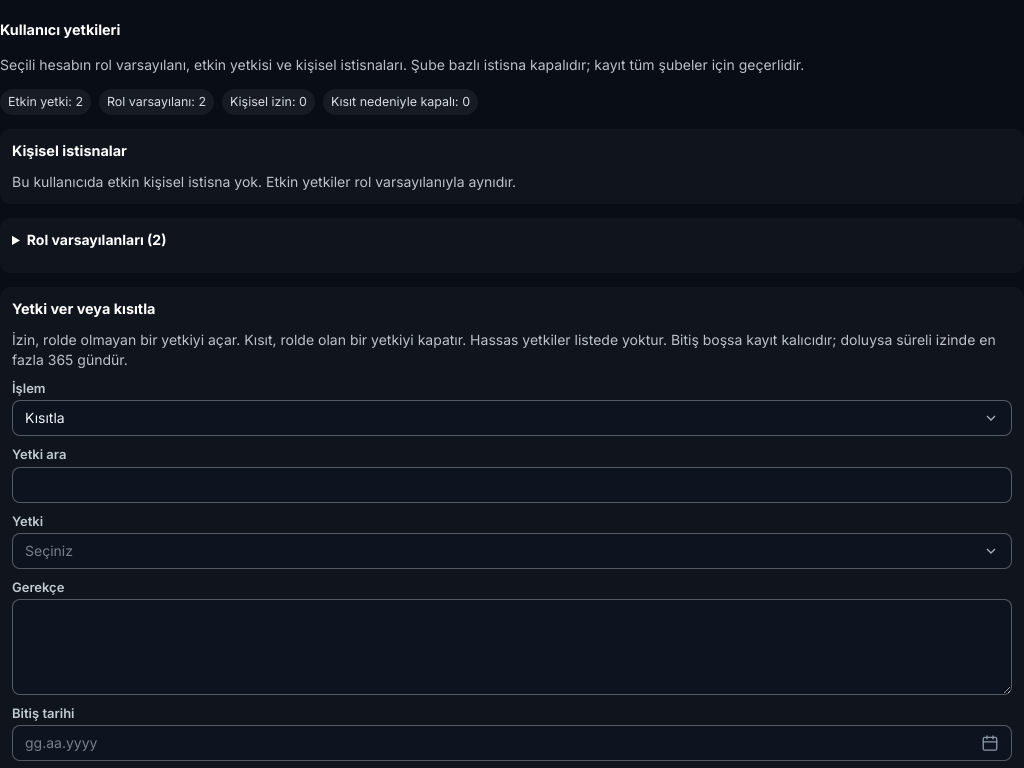
Test: Kullanıcı yetki paneli › şema hatasında başarı yazmaz
This screenshot has width=1024, height=768.
Select "Personel düzenleme (personeller.update)" in the dropdown named "yonetim-yetki-izin": [28, 521] box x1=12 y1=513 x2=43 y2=529
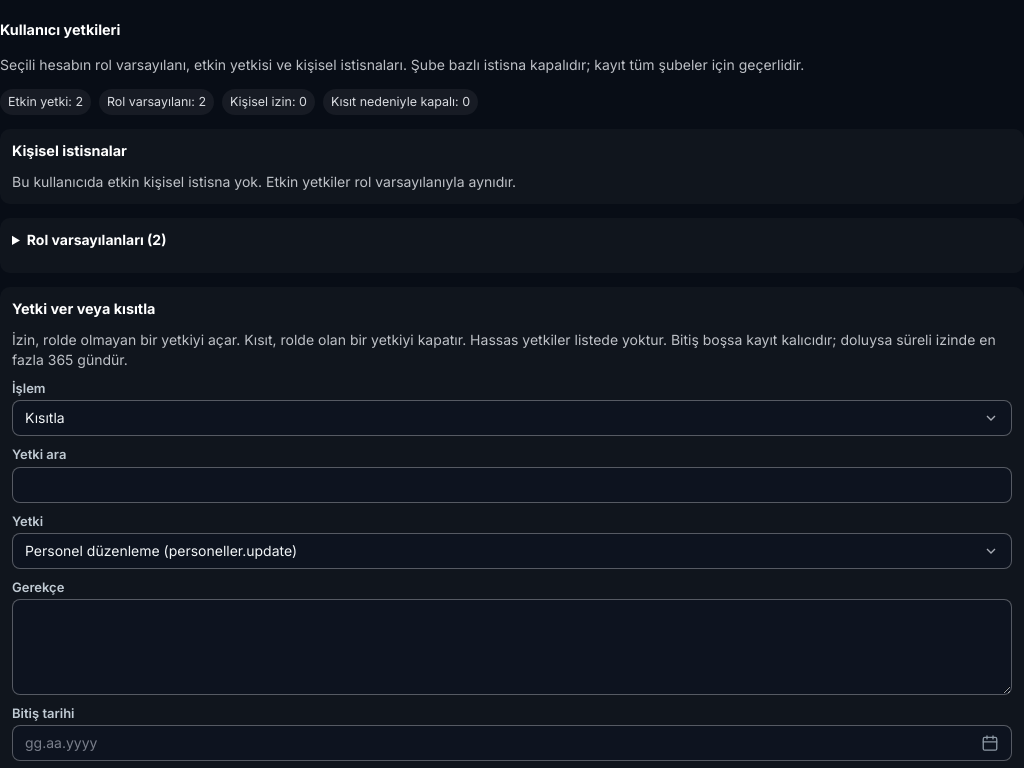
In the text box named "yonetim-yetki-gerekce": [512, 647] box x1=12 y1=599 x2=1012 y2=695, type "Düzenleme kapansın"
(page scrolled)
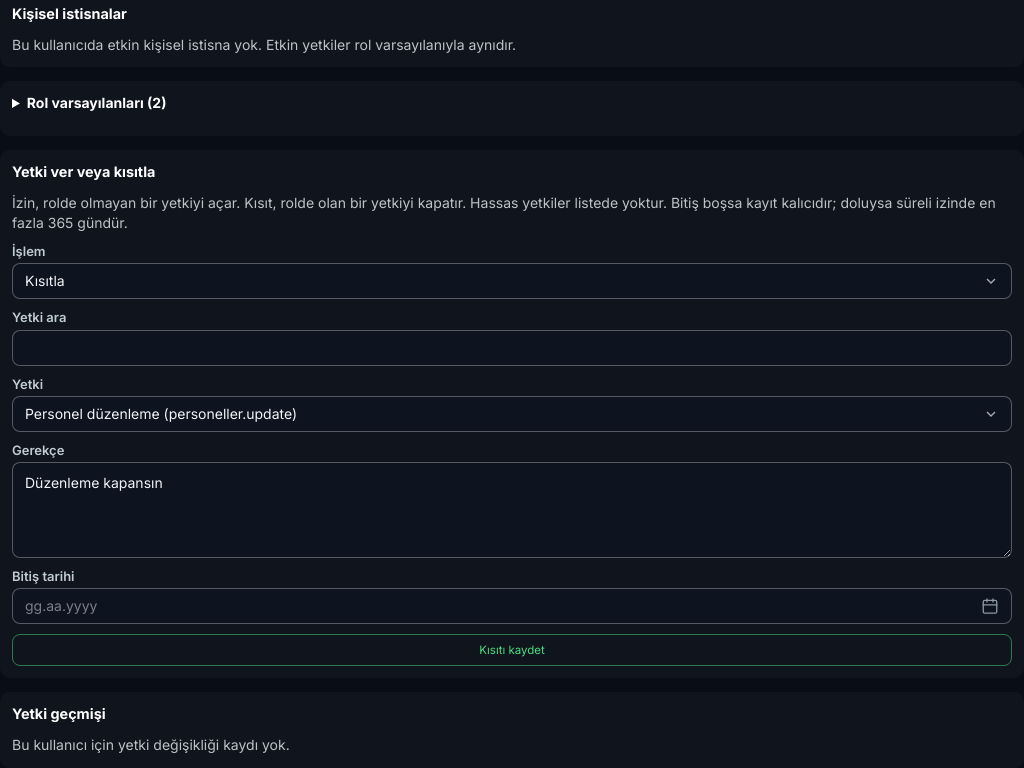
Click the button with test id "yonetim-yetki-kaydet": [512, 650] box x1=12 y1=634 x2=1012 y2=666
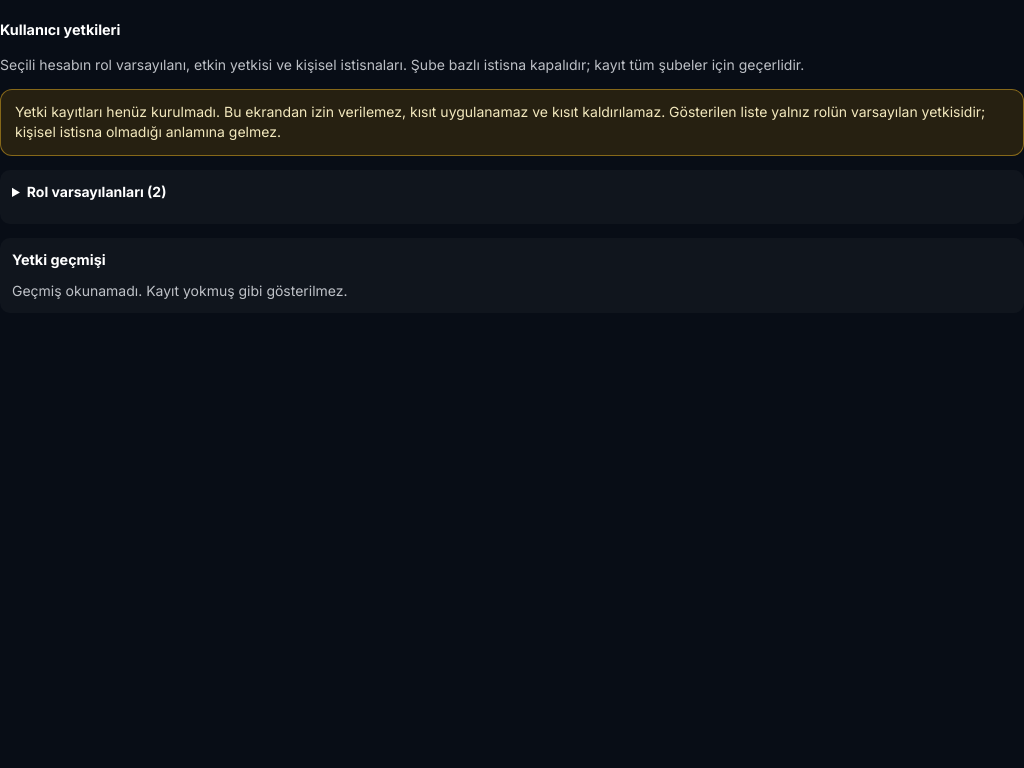
Now the message with test id "yonetim-yetki-sema-uyari" is shown, box x1=0 y1=89 x2=1023 y2=156
